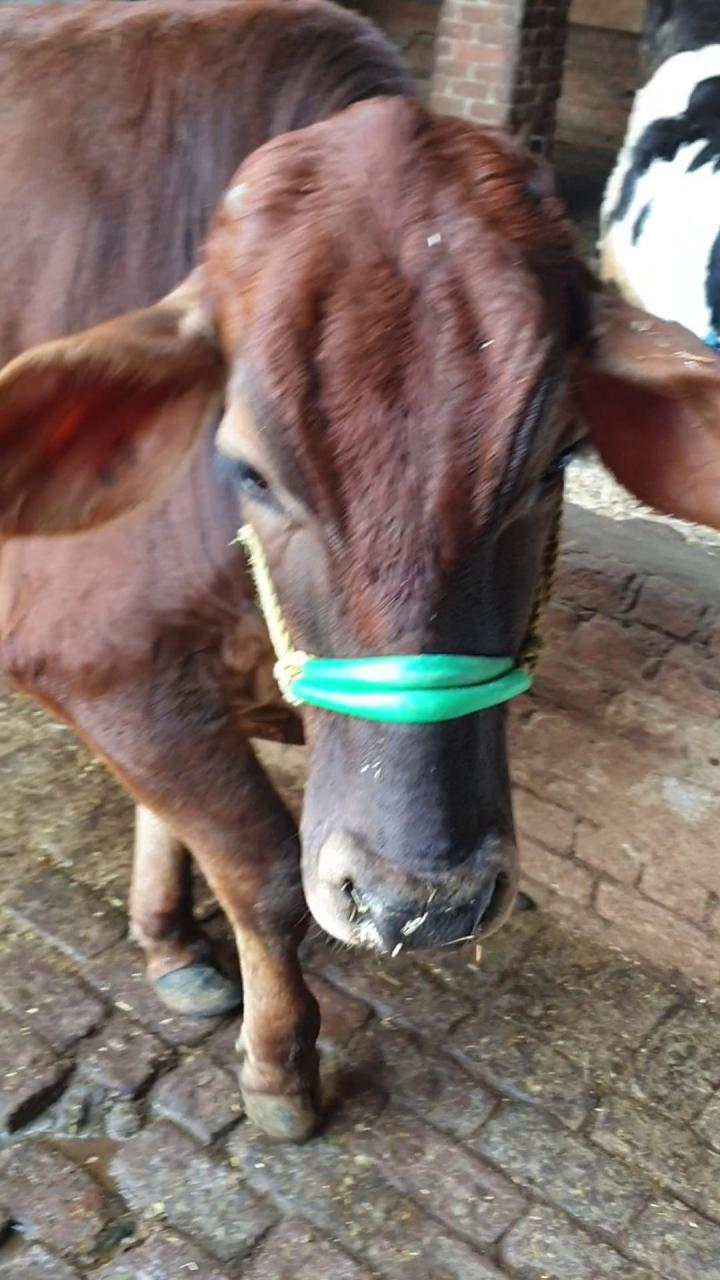cows: (200, 93, 577, 955)
